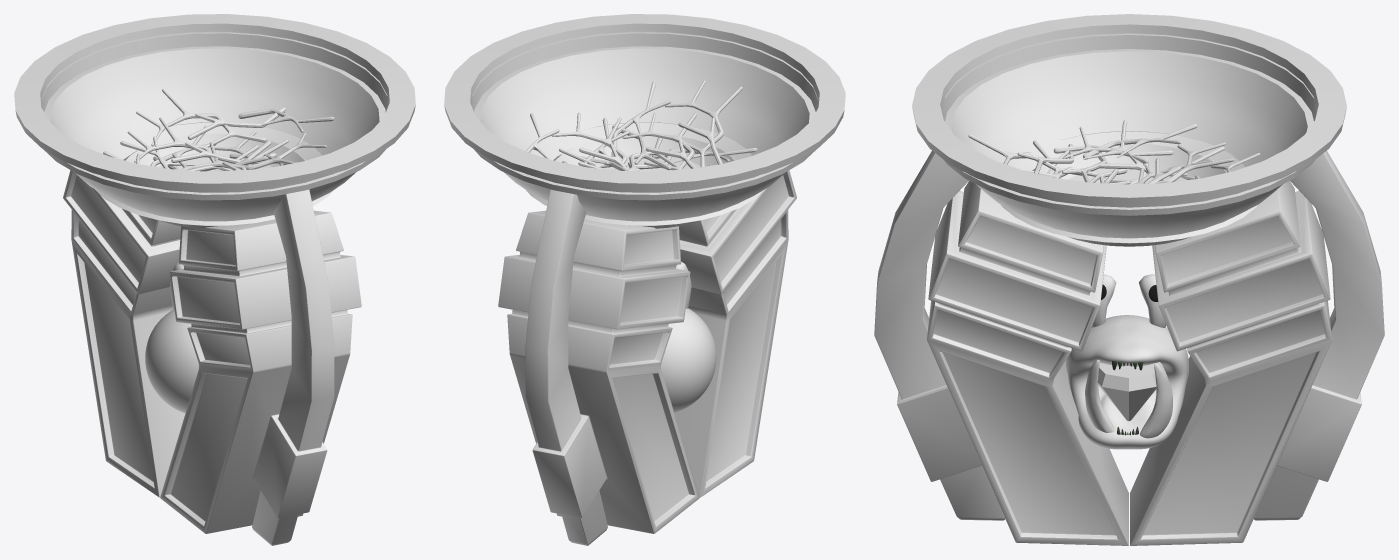
Rendered from FuegoPilarFinal.fbx.
3 views of the same model, side by side, from view 1: azimuth 30°, elevation 25°; view 2: azimuth 150°, elevation 25°; view 3: azimuth 270°, elevation 25° (orthographic). The views are drawn at different scales.
Parts seen in each view (by area): view 1: Cube, Sphere, Sphere.005, Cube.017, Cube.011, Cube.020, Cube.018, Cube.022, Cube.012; view 2: Cube, Sphere, Sphere.005, Cube.026, Cube.014, Cube.020, Cube.028; view 3: Cube, Sphere, Sphere.005, Cone, Sphere.007, Cube.004, Cube.013, Cube.011, Cube.025, Cube.005.
Boxes of the visible parts, x1,y1,x2,y2 form: Cube: (63,170,361,545); Sphere: (14,14,415,228); Sphere.005: (145,309,198,413); Cube.017: (136,89,266,147); Cube.011: (127,117,233,171); Cube.020: (201,132,326,171); Cube.018: (188,107,285,139); Cube.022: (238,109,334,132); Cube.012: (171,142,276,165); Cube: (498,170,796,545); Sphere: (444,14,845,228); Sphere.005: (661,308,716,412); Cube.026: (665,80,742,167); Cube.014: (622,112,696,170); Cube.020: (551,112,627,170); Cube.028: (611,81,670,156); Cube: (874,151,1384,545); Sphere: (912,14,1346,246); Sphere.005: (1066,315,1188,449); Cone: (1097,362,1166,421); Sphere.007: (1085,360,1172,438); Cube.004: (1092,274,1166,327); Cube.013: (1083,124,1197,159); Cube.011: (1138,142,1233,183); Cube.025: (1053,144,1173,163); Cube.005: (1063,120,1148,183).
Bounding box in the file's own units: 373 × 398 × 437.
